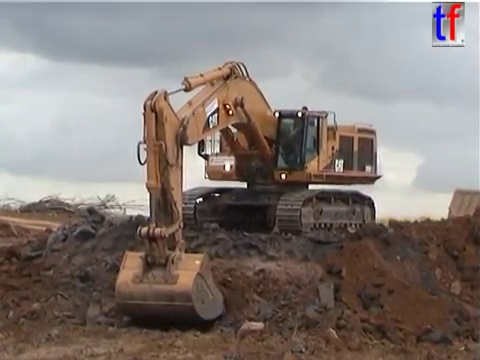excavator: (111, 59, 385, 327)
truck: (446, 187, 480, 236)
